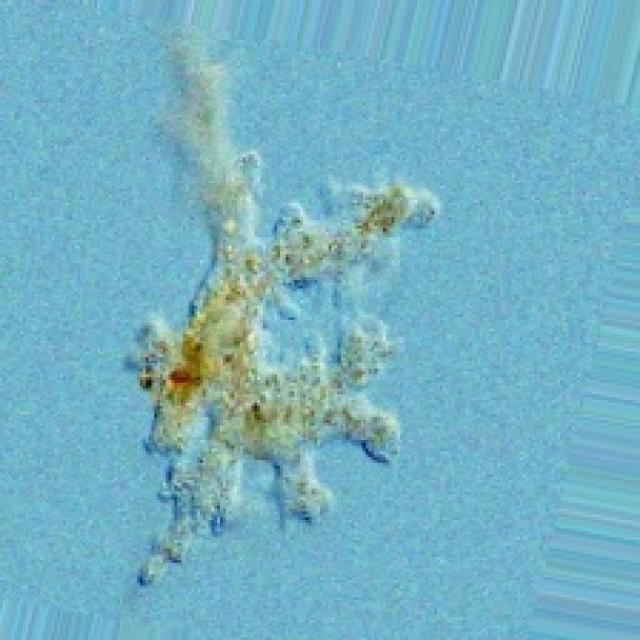Amoeba: (123, 26, 440, 586)
